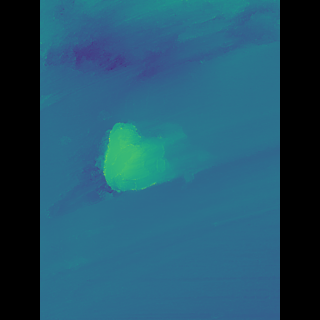Loch: (68, 0, 248, 101), (75, 115, 195, 222)
